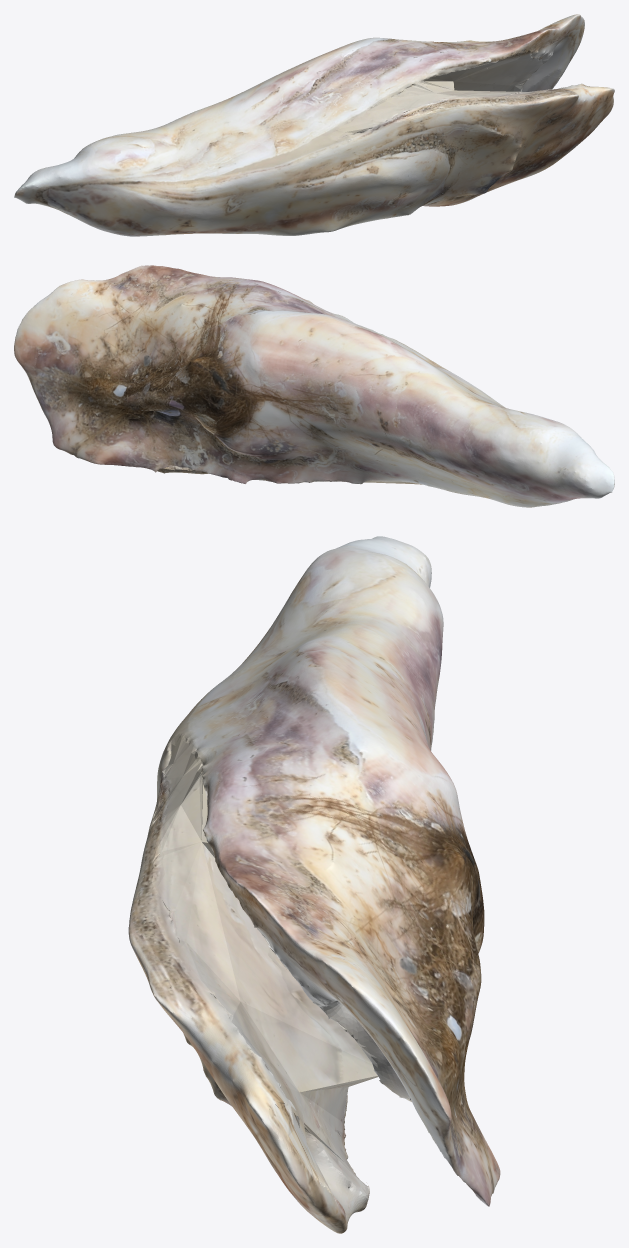
Rendered from MZUR3D-038.glb.
The picture shows the model from 3 angles, top to bottom: view 1: azimuth 30°, elevation 25°; view 2: azimuth 150°, elevation 25°; view 3: azimuth 270°, elevation 25°; orthographic projection. The views are drawn at different scales.
Visible parts, largest first — view 1: MZUR3D-038; view 2: MZUR3D-038; view 3: MZUR3D-038.
Part boxes in pixels (<box>): MZUR3D-038: <box>14,14,614,236</box>; MZUR3D-038: <box>14,265,614,507</box>; MZUR3D-038: <box>128,536,500,1233</box>.
Size of the model in its own units: 1.34 by 0.4117 by 0.3742.
1 material, 1 textured.
